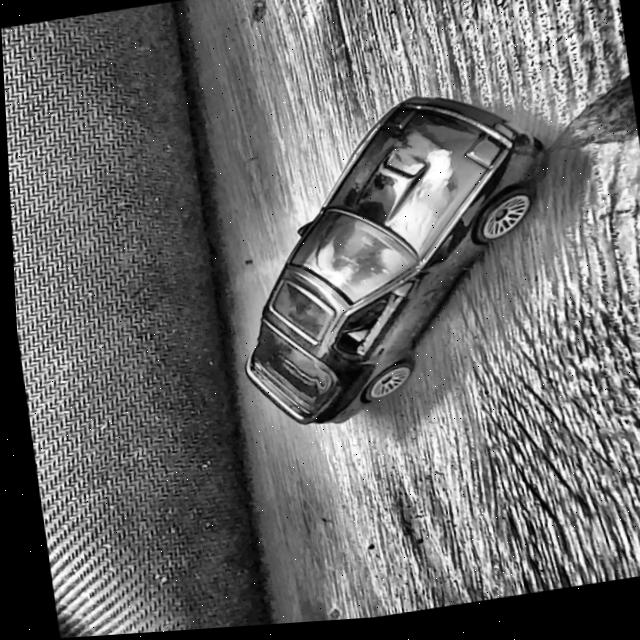car: (207, 83, 574, 440)
